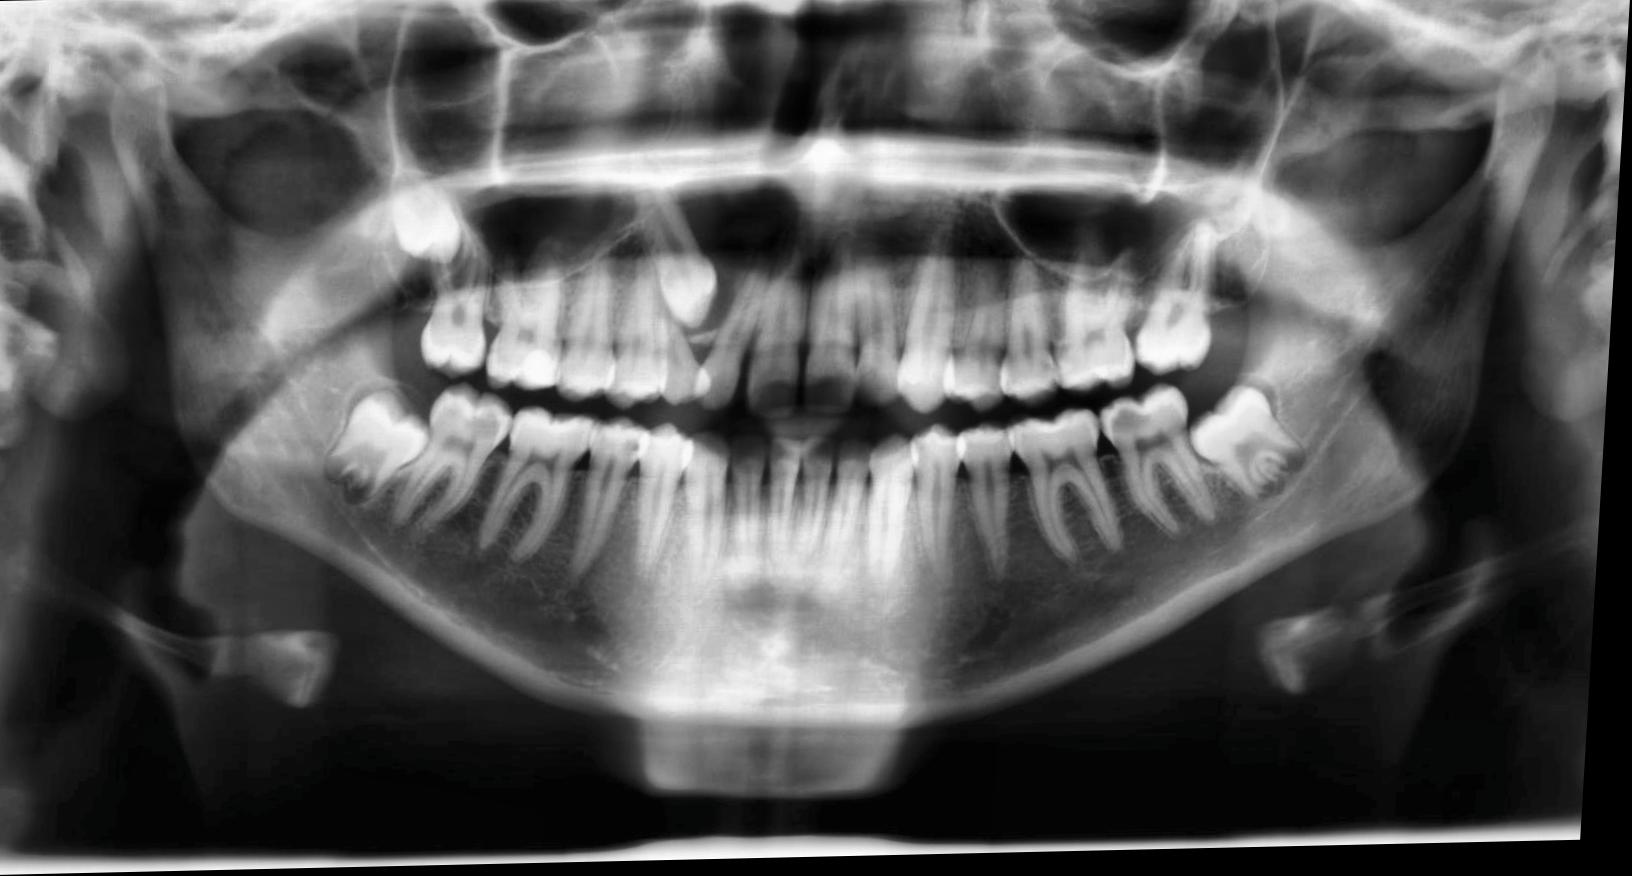dentigeroz: (652, 178, 805, 344)
